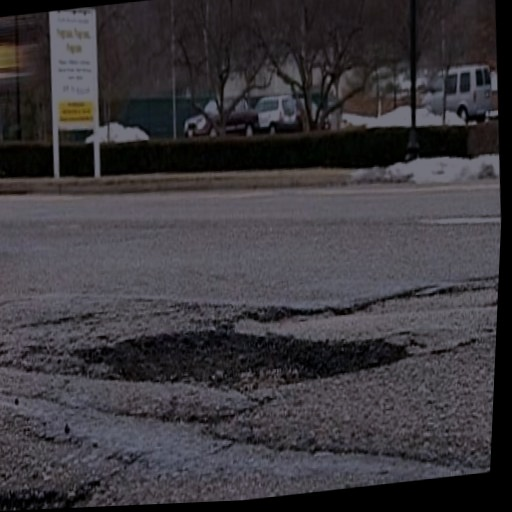pothole: (84, 306, 411, 409), (0, 478, 94, 511)
